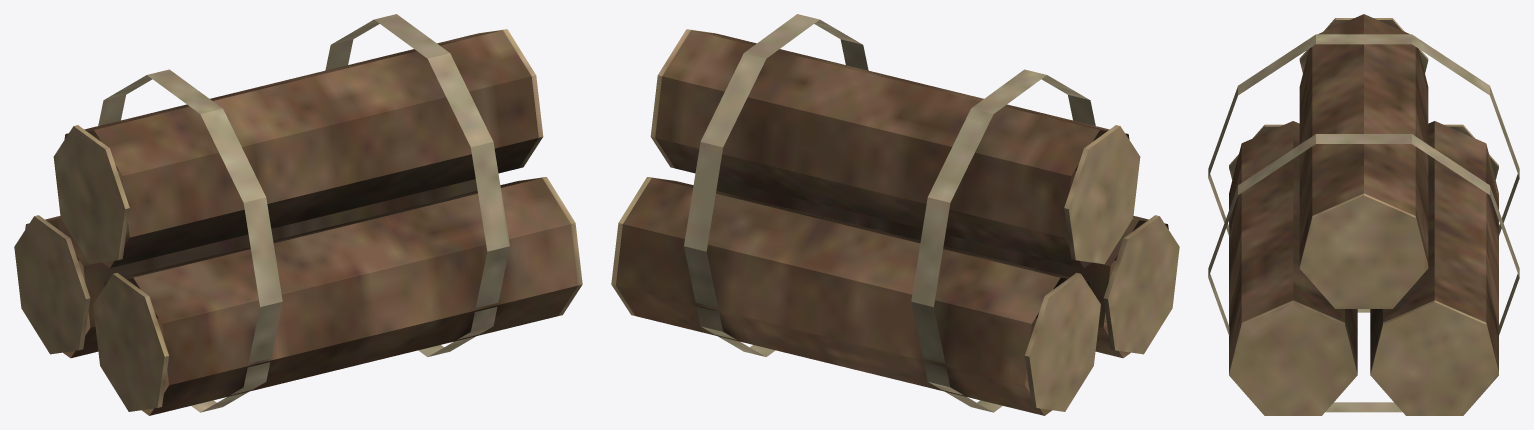
Rendered from SM_Loot_Logs.fbx.
The picture shows the model from 3 angles, left to right: view 1: azimuth 30°, elevation 25°; view 2: azimuth 150°, elevation 25°; view 3: azimuth 270°, elevation 25°; orthographic projection. The views are drawn at different scales.
Parts seen in each view (by area): view 1: SM_Loot_Logs; view 2: SM_Loot_Logs; view 3: SM_Loot_Logs.
Boxes of the visible parts, box(x1,y1,x2,y2) form: SM_Loot_Logs: box(14, 14, 582, 415); SM_Loot_Logs: box(611, 14, 1179, 415); SM_Loot_Logs: box(1208, 14, 1519, 415).
Size of what is drawn, in the model's own units: 92 by 62.77 by 66.
Materials: 1 (1 with a texture image).
